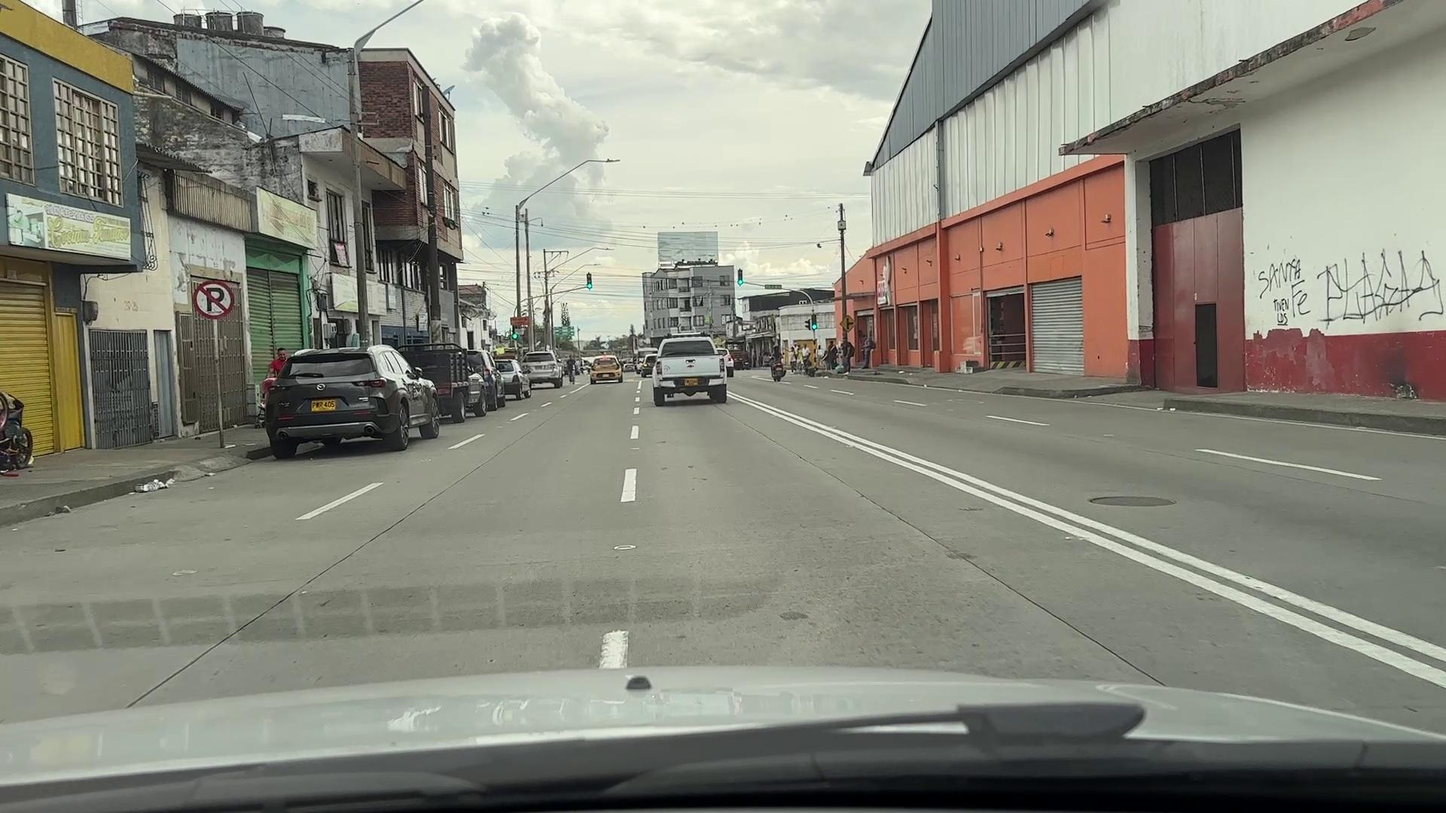registro: (1089, 496, 1177, 506)
